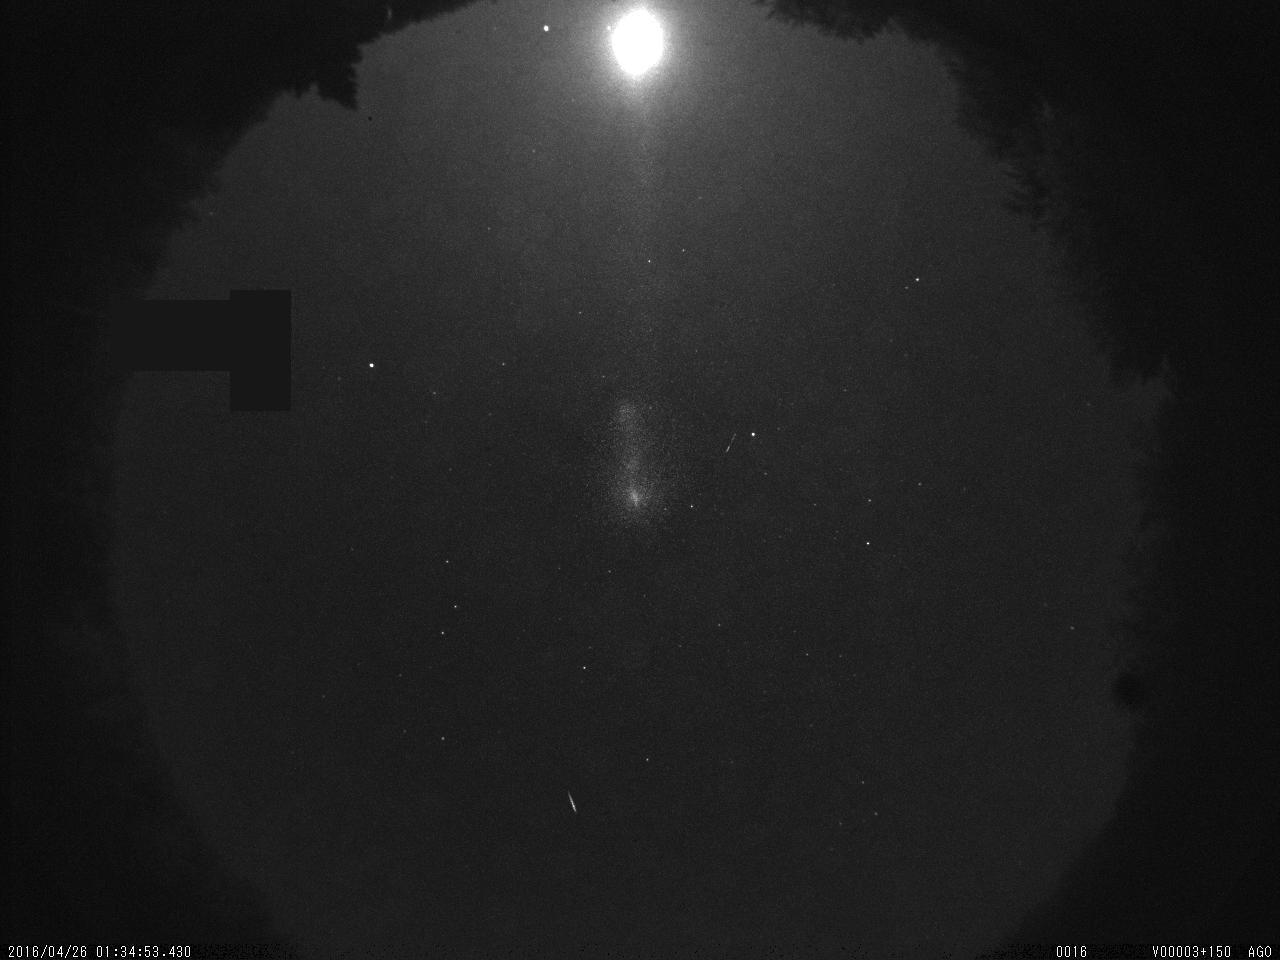meteor: (559, 773, 594, 826)
